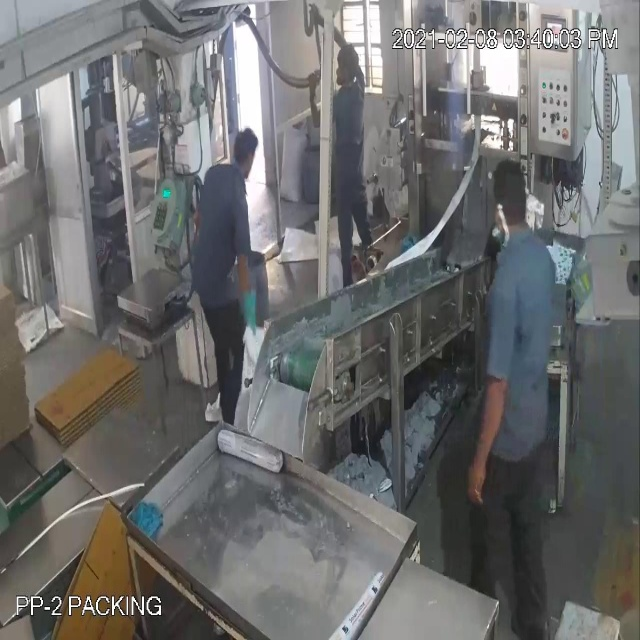Guantes: (226, 237, 270, 357)
Sin_guantes: (462, 364, 509, 517)
